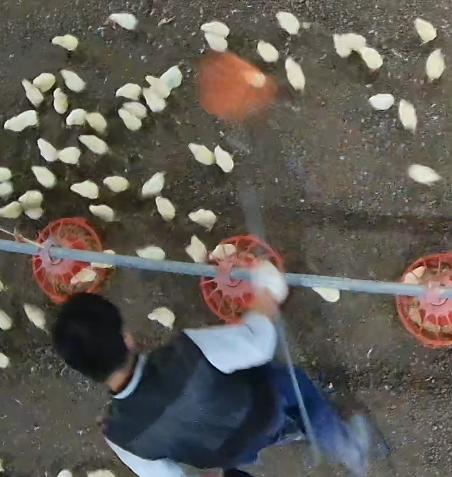chick: (284, 57, 308, 92), (356, 43, 384, 73), (405, 164, 443, 186), (334, 33, 365, 59), (6, 111, 41, 133), (424, 48, 445, 84), (141, 87, 170, 113), (60, 68, 88, 94), (21, 301, 47, 329), (411, 18, 440, 43), (30, 163, 55, 190), (185, 236, 209, 264), (188, 209, 216, 233), (186, 141, 214, 165), (107, 11, 139, 32), (147, 305, 176, 328), (20, 192, 44, 219), (77, 134, 109, 154), (397, 100, 418, 130), (144, 72, 170, 96), (21, 79, 45, 105), (88, 203, 116, 224), (214, 144, 234, 173), (276, 11, 300, 35), (142, 171, 165, 196), (161, 64, 184, 89), (204, 31, 228, 54), (56, 146, 81, 168), (71, 180, 98, 200), (101, 175, 131, 193), (68, 265, 96, 284), (37, 139, 59, 163), (209, 243, 238, 261), (84, 111, 109, 131), (91, 248, 116, 268), (116, 81, 142, 100), (368, 94, 395, 112), (119, 109, 141, 131), (314, 285, 342, 302), (403, 265, 427, 284), (155, 196, 174, 220), (244, 71, 269, 89), (200, 21, 230, 36), (31, 74, 56, 92), (51, 34, 78, 50), (258, 41, 278, 62), (139, 246, 165, 262), (0, 201, 23, 219), (124, 101, 148, 117), (53, 90, 68, 115), (65, 109, 86, 126), (1, 311, 14, 334), (0, 181, 14, 198)
rice: (201, 235, 288, 321), (32, 217, 109, 300)
